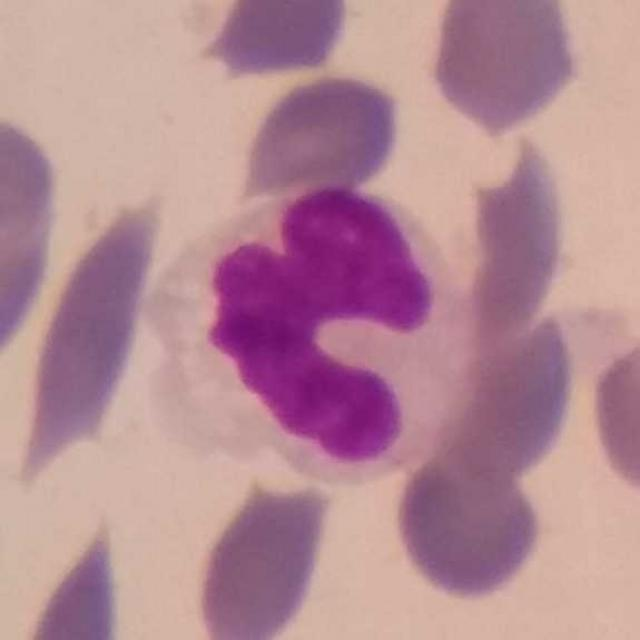mono: (142, 178, 482, 488)
